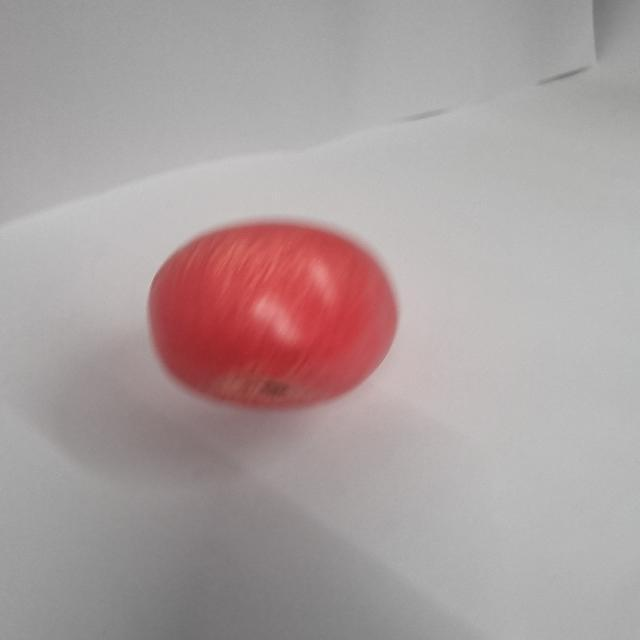apple: (150, 218, 397, 408)
